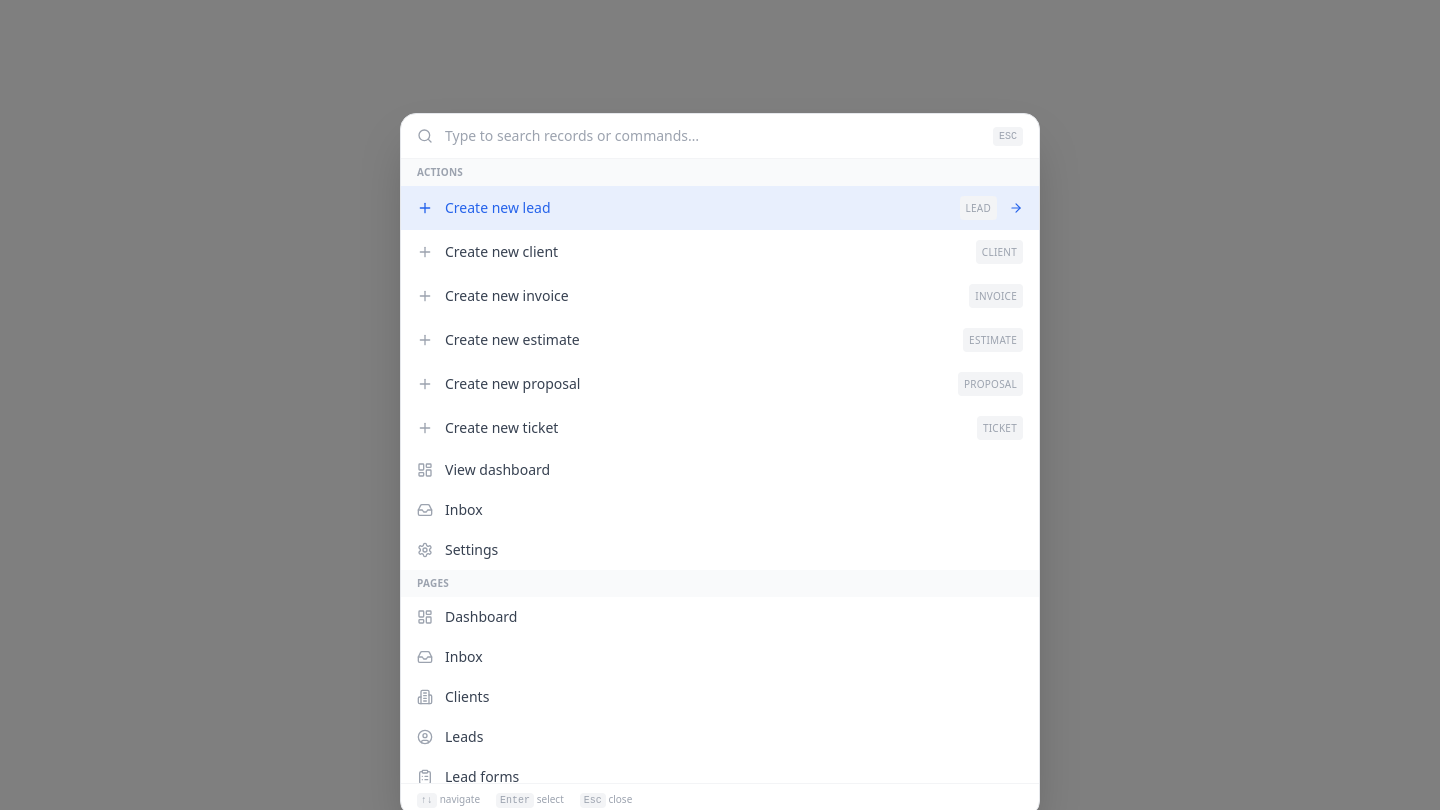
CommandPalette component › shows the empty placeholder when no static items match the query
Type "zzzzzz" into the field with placeholder "Type to search records or commands…" at (713, 136), box [445, 126, 981, 146]
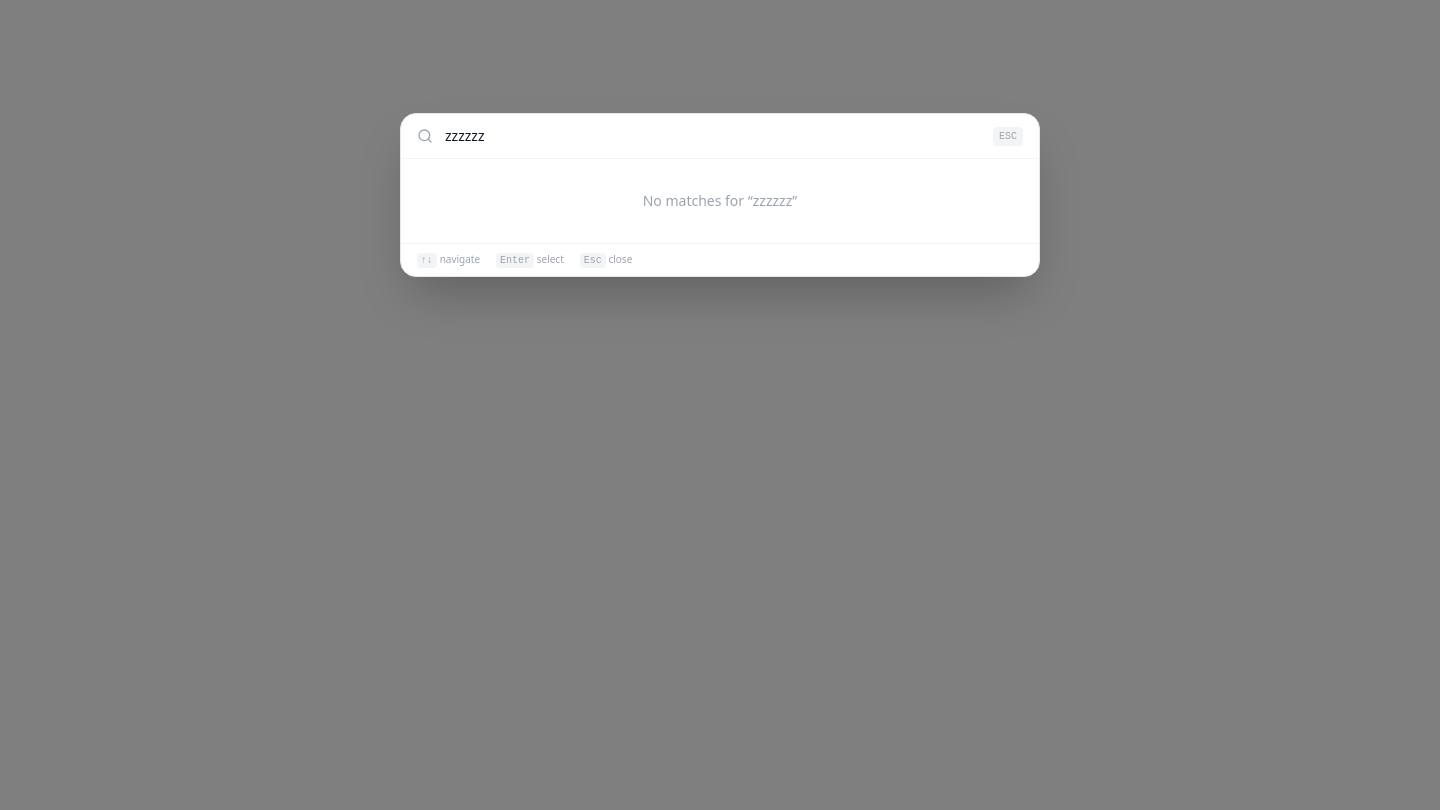
Expected: the text "No matches for “zzzzzz”" is shown, [643, 191, 797, 210]
